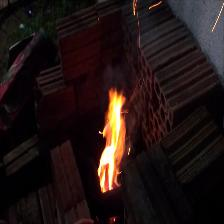fire: (79, 65, 146, 196)
